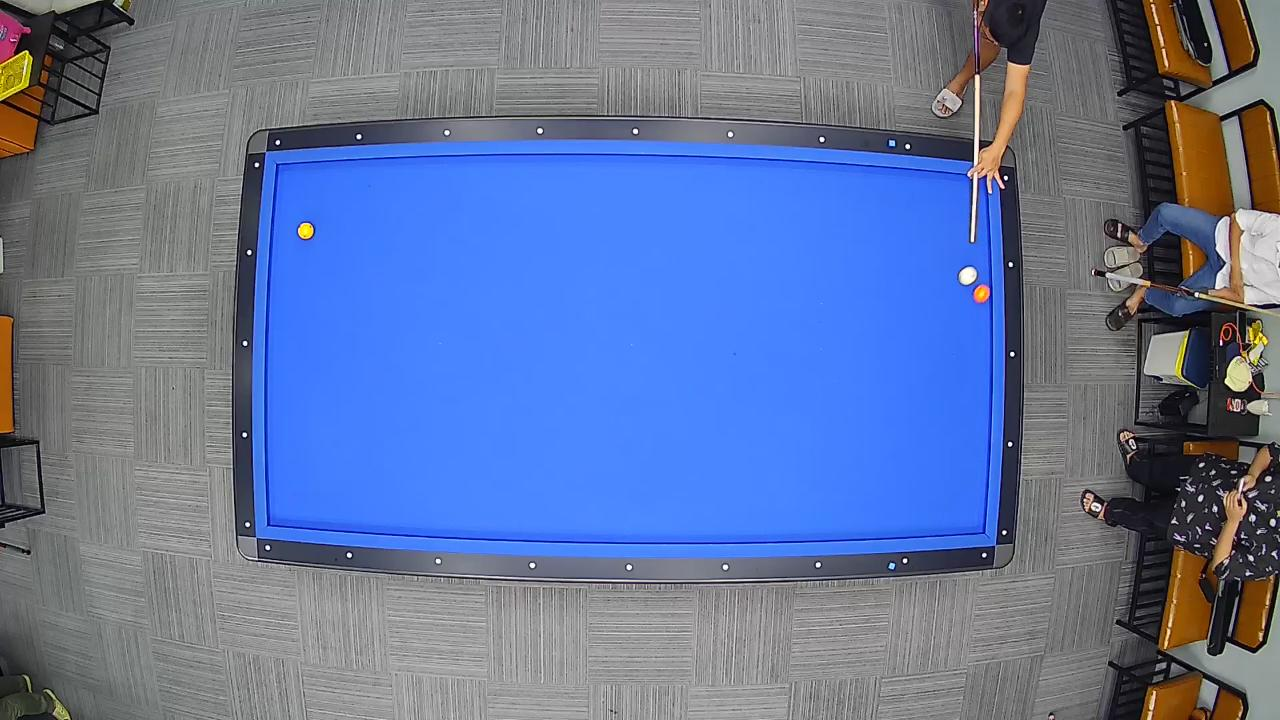Orange: (971, 283, 991, 305)
White: (956, 264, 978, 288)
Yellow: (296, 221, 316, 242)
